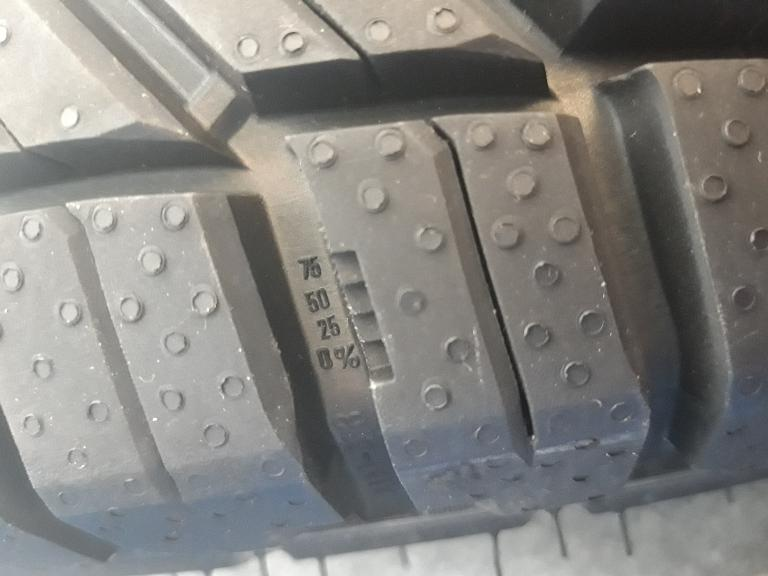temoin:100: (307, 210, 404, 395)
